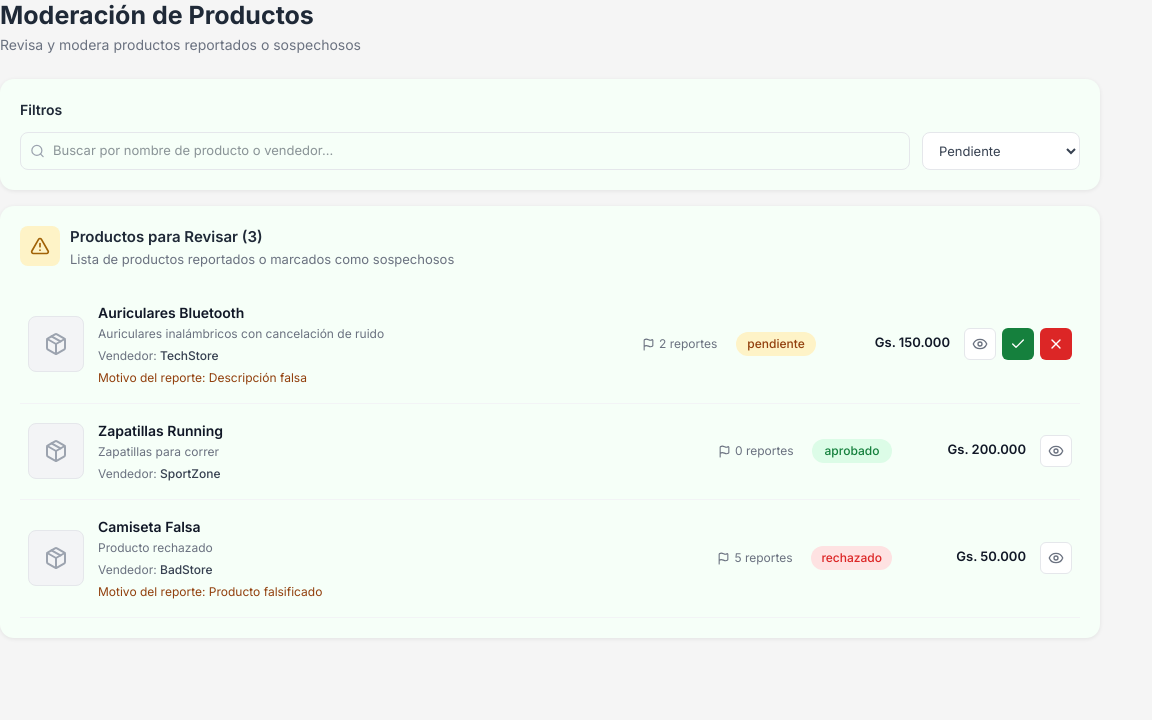
Test: AdminProductsPage › muestra el motivo de rechazo en el modal para productos REJECTED
This screenshot has width=1152, height=720.
expect the text "Camiseta Falsa" is shown: met, box [98,518,201,534]
Click the button titled "Ver detalle" in the row of "Producto rechazado" at (1056, 558), box [1040,542,1072,574]
(page scrolled)
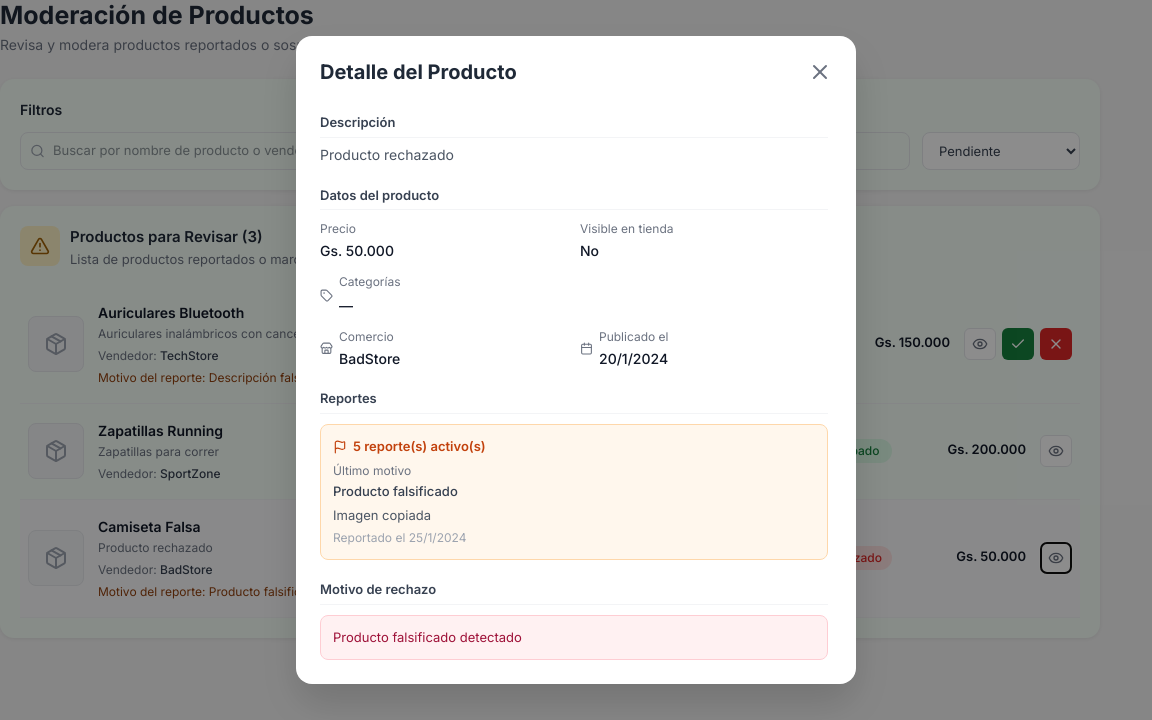
expect the text "Producto falsificado detectado" is shown: met, box [333,629,522,645]
